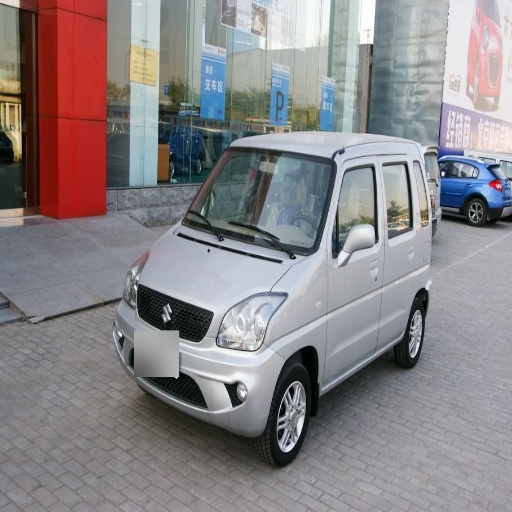front_bumper: (116, 285, 285, 435)
front_glass: (184, 148, 334, 255)
front_left_door: (324, 159, 384, 383)
